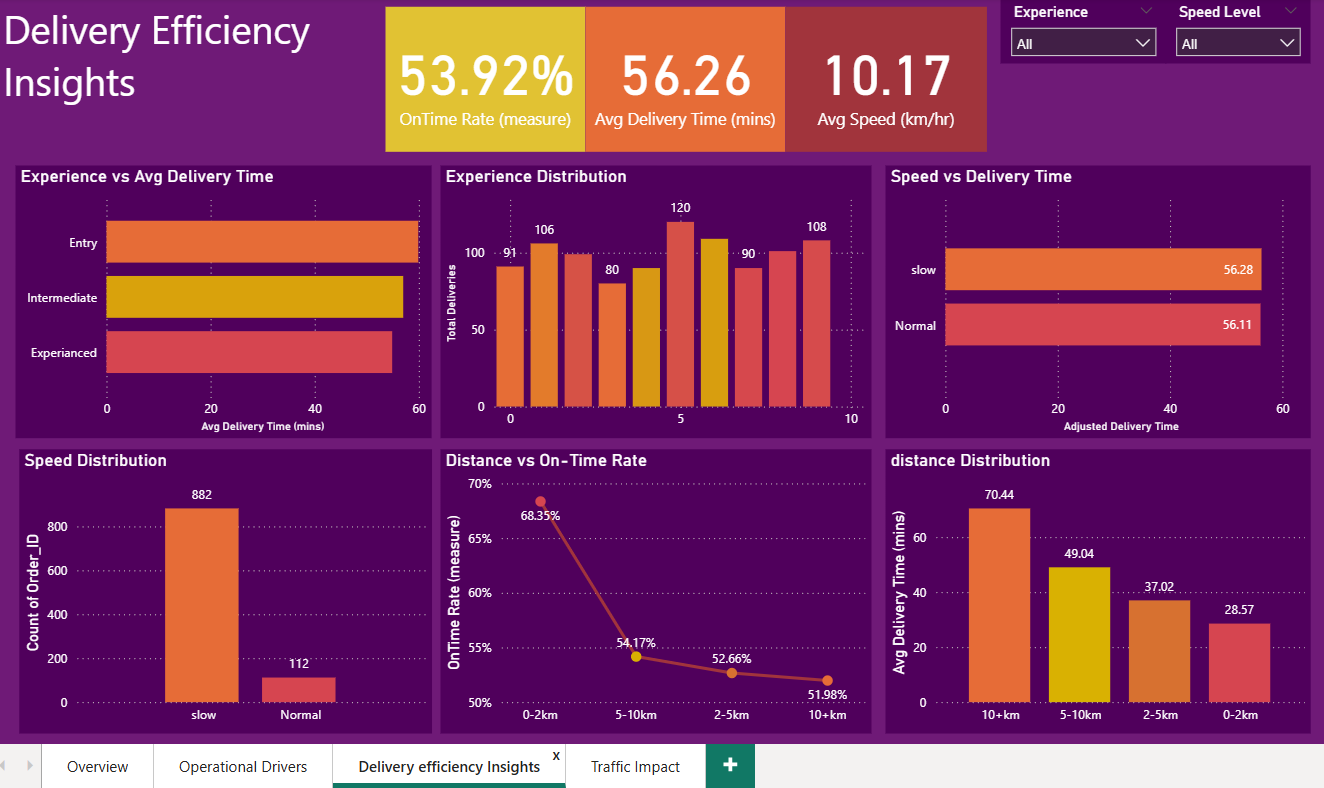

Layout of this report page (visuals, bound fields, positions):
{"tool":"powerbi","page":{"name":"Delivery efficiency Insights","canvas":[1280,720],"ordinal":2},"visuals":[{"type":"barChart","title":"Experience vs Avg Delivery Time","fields":{"Category":["zepto_delivery.Experience Bucket"],"Y":["zepto_delivery.Avg Delivery Time (mins)"]},"box":[17.1,161.4,401.4,262.9],"z":0},{"type":"clusteredColumnChart","title":"Experience Distribution","fields":{"Category":["zepto_delivery.courier experience yrs"],"Y":["zepto_delivery.Total Deliveries"]},"box":[427.1,161.4,415.7,262.9],"z":1000},{"type":"barChart","title":"Speed vs Delivery Time","fields":{"Category":["zepto_delivery.Speed Bucket"],"Y":["Actual VS Predicted.Adjusted Delivery Time"]},"box":[857.1,161.4,410,262.9],"z":2000},{"type":"slicer","title":"Experience vs Avg Delivery Time","fields":{"Values":["zepto_delivery.Distance bucket"]},"box":[1127.1,0,140,62.9],"z":3000},{"type":"lineChart","title":"Distance vs On-Time Rate","fields":{"Y":["zepto_delivery.OnTime Rate (measure)"],"Category":["zepto_delivery.Distance bucket"]},"box":[427.1,435.7,415.7,274.3],"z":4000},{"type":"columnChart","title":"Speed Distribution","fields":{"Y":["CountNonNull(zepto_delivery.Order_ID)"],"Category":["zepto_delivery.Speed Bucket"]},"box":[20,435.7,398.6,274.3],"z":5000},{"type":"columnChart","title":"distance Distribution","fields":{"Category":["zepto_delivery.Distance bucket"],"Y":["zepto_delivery.Avg Delivery Time (mins)"]},"box":[857.1,435.7,410,274.3],"z":6000},{"type":"card","fields":{"Values":["zepto_delivery.OnTime Rate (measure)"]},"box":[374.3,8.6,192.9,140],"z":7000},{"type":"card","fields":{"Values":["zepto_delivery.Avg Delivery Time (mins)"]},"box":[567.1,8.6,192.9,140],"z":8000},{"type":"card","fields":{"Values":["Traffic Impact %.Avg Speed (km/hr)"]},"box":[760,8.6,194.3,140],"z":9000},{"type":"slicer","title":"Experience vs Avg Delivery Time","fields":{"Values":["zepto_delivery.Experience Bucket"]},"box":[967.1,0,160,62.9],"z":10000},{"type":"textbox","box":[0,0,345.7,117.1],"z":11000}]}

Visuals, with their boxes on the page's 1280x720 design canvas (x1, y1, x2, y2). These are canvas units, not pixel positions in the 1324x788 screenshot, which may show the page scaled, cropped or inside an application window:
"Experience vs Avg Delivery Time" barChart: [17, 161, 418, 424]
"Experience Distribution" clusteredColumnChart: [427, 161, 843, 424]
"Speed vs Delivery Time" barChart: [857, 161, 1267, 424]
"Experience vs Avg Delivery Time" slicer: [1127, 0, 1267, 63]
"Distance vs On-Time Rate" lineChart: [427, 436, 843, 710]
"Speed Distribution" columnChart: [20, 436, 419, 710]
"distance Distribution" columnChart: [857, 436, 1267, 710]
card - zepto_delivery.OnTime Rate (measure): [374, 9, 567, 149]
card - zepto_delivery.Avg Delivery Time (mins): [567, 9, 760, 149]
card - Traffic Impact %.Avg Speed (km/hr): [760, 9, 954, 149]
"Experience vs Avg Delivery Time" slicer: [967, 0, 1127, 63]
textbox: [0, 0, 346, 117]
